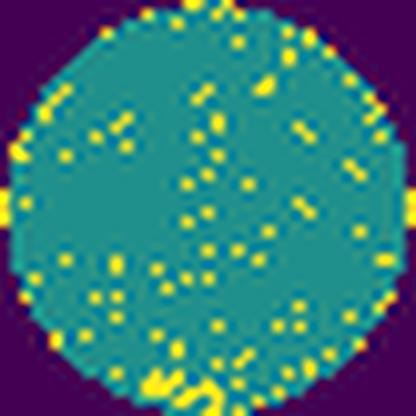Edge-Loc: (139, 364, 224, 416)
